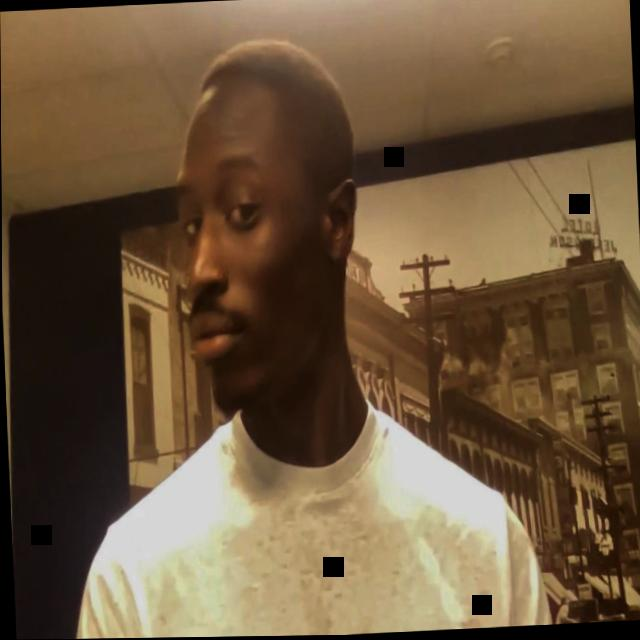NO-Mask: (172, 94, 365, 417)
